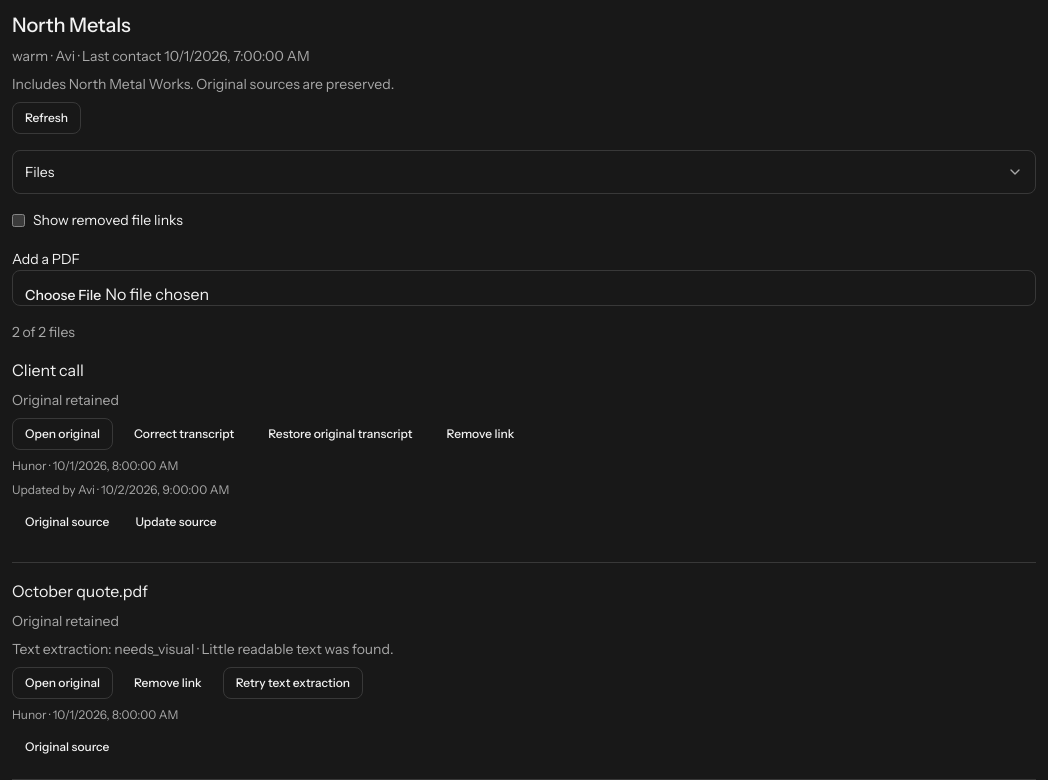
business capability controls › restores original audio wording as a sourced edit, with Review and Undo available
The width and height of the screenshot is (1048, 780).
Click the button "Restore original transcript" at (340, 434), box [255, 418, 426, 450]
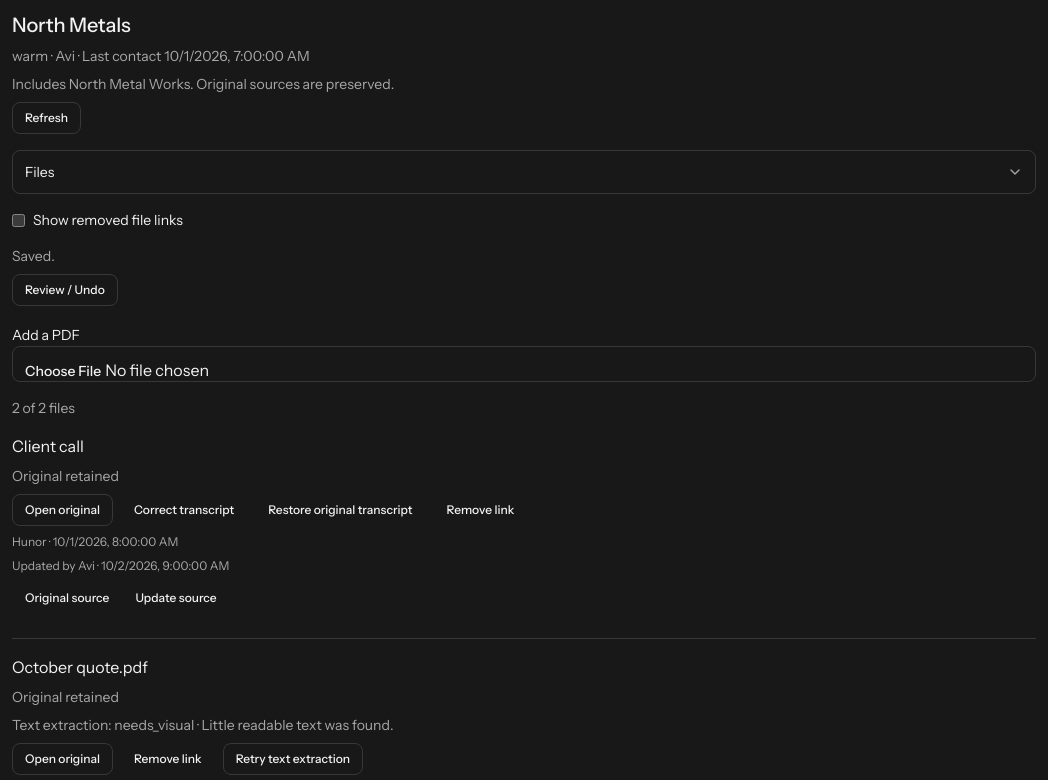
Expected: the text "Review / Undo" is shown, [12, 274, 118, 306]
